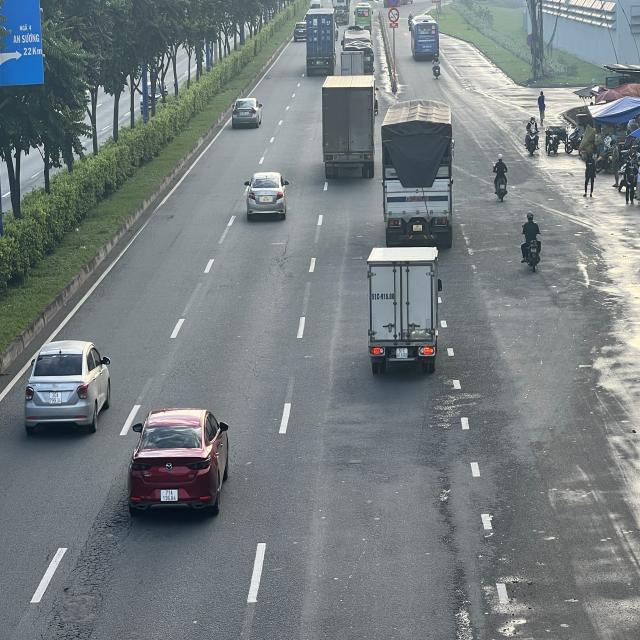car: (127, 405, 230, 516), (26, 337, 114, 432), (246, 171, 291, 218), (232, 96, 264, 128)
coach: (410, 13, 440, 61)
container: (306, 7, 338, 74)
truck: (384, 100, 456, 248), (369, 246, 444, 372), (321, 76, 378, 182)
